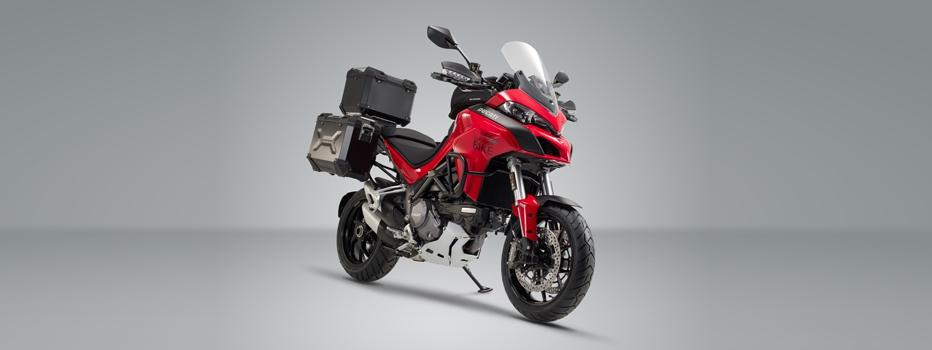engine-chasis: (386, 172, 510, 295)
exhaust: (362, 202, 407, 250)
frontside: (425, 39, 584, 266)
handlebar: (428, 24, 521, 94), (555, 91, 578, 122), (552, 72, 570, 88)
motorbike: (306, 40, 593, 320)
rearside: (306, 66, 427, 229)
seat: (382, 122, 455, 166)
tank: (435, 87, 498, 157)
wheel: (500, 199, 593, 320), (336, 188, 396, 280)
